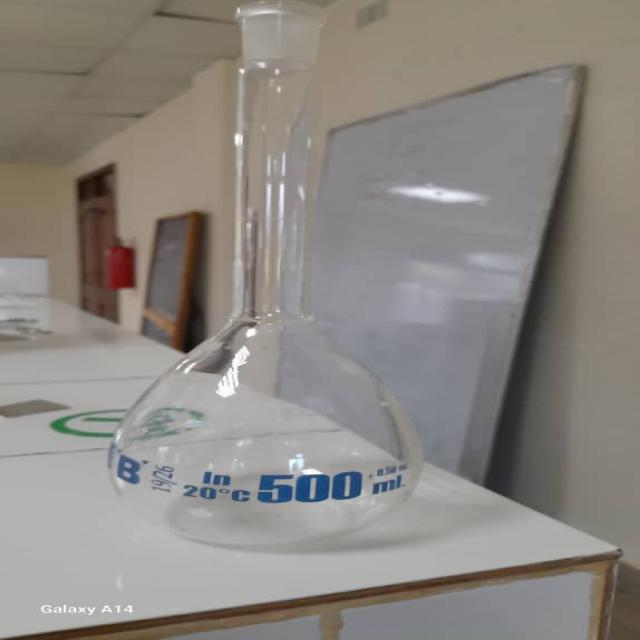Volumetric flask: (105, 4, 435, 552)
